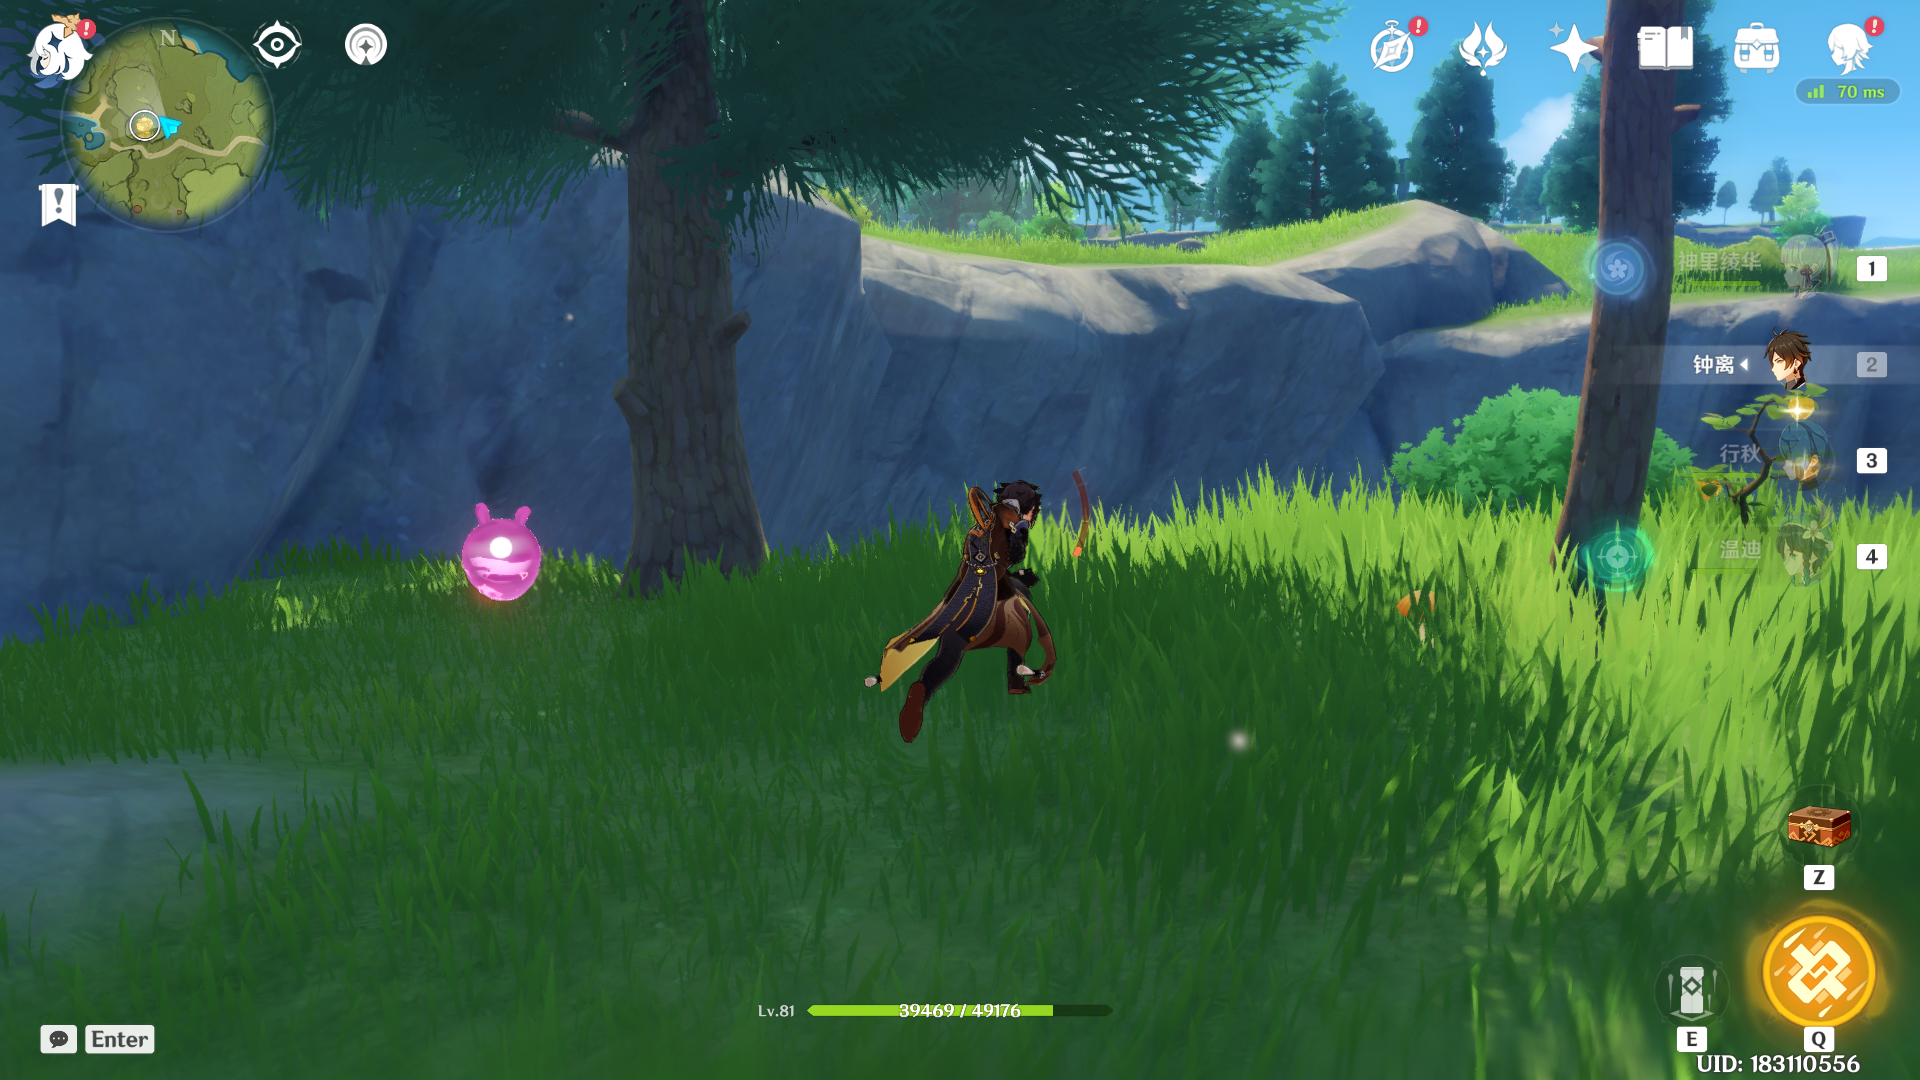character: (825, 467, 1104, 757)
